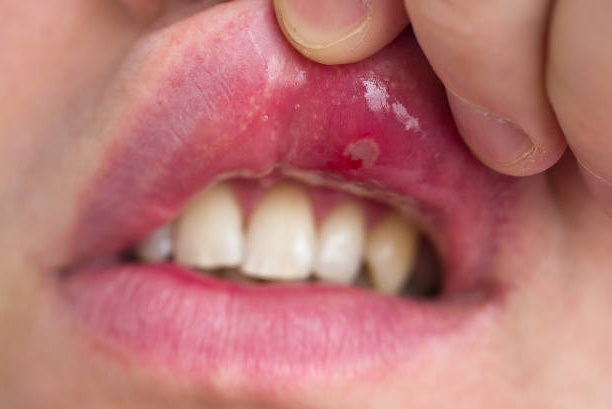Ulcer: (338, 133, 381, 171)
